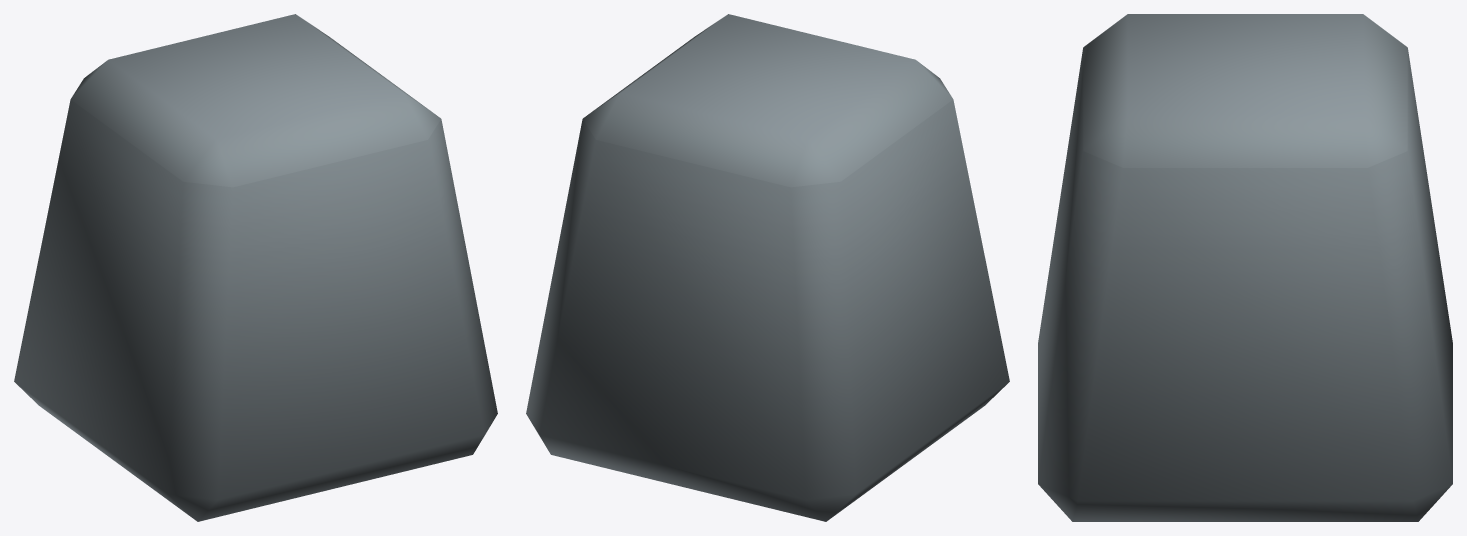
The model's file is Rock_2_B_Color1.glb.
3 renders of one model, left to right at view 1: azimuth 30°, elevation 25°; view 2: azimuth 150°, elevation 25°; view 3: azimuth 270°, elevation 25°, orthographic. The views are drawn at different scales.
Parts seen in each view (by area): view 1: Rock_2_B_Color1; view 2: Rock_2_B_Color1; view 3: Rock_2_B_Color1.
Part boxes in pixels (x1,y1,x2,y2): Rock_2_B_Color1: (14,14,497,521); Rock_2_B_Color1: (526,14,1009,521); Rock_2_B_Color1: (1038,14,1452,521).
Bounding box in the file's own units: 0.6301 × 0.6455 × 0.6301.
1 material, 1 textured.
